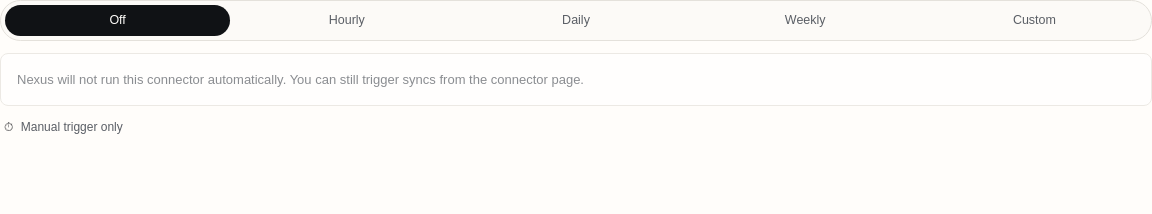
Test: ScheduleField › rejects an @descriptor the backend can't parse
Click the tab "Custom" at (1034,20), box [922, 5, 1147, 36]
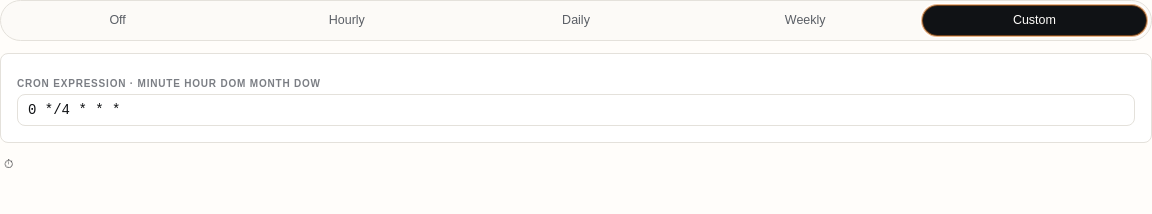
Type "@daily" into the field with placeholder "0 */4 * * *" at (576,110), box [17, 94, 1135, 126]
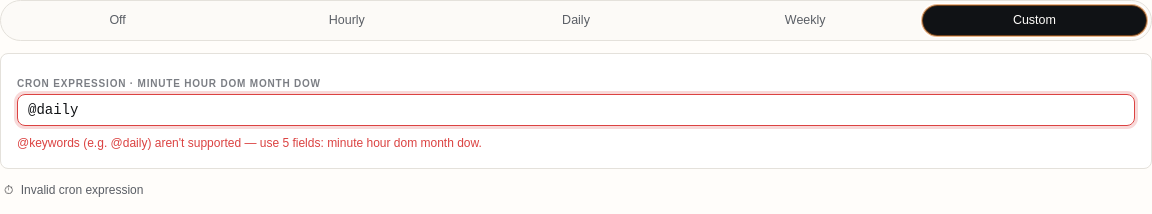
Check: the text "@keywords" is shown, box [17, 136, 482, 150]
